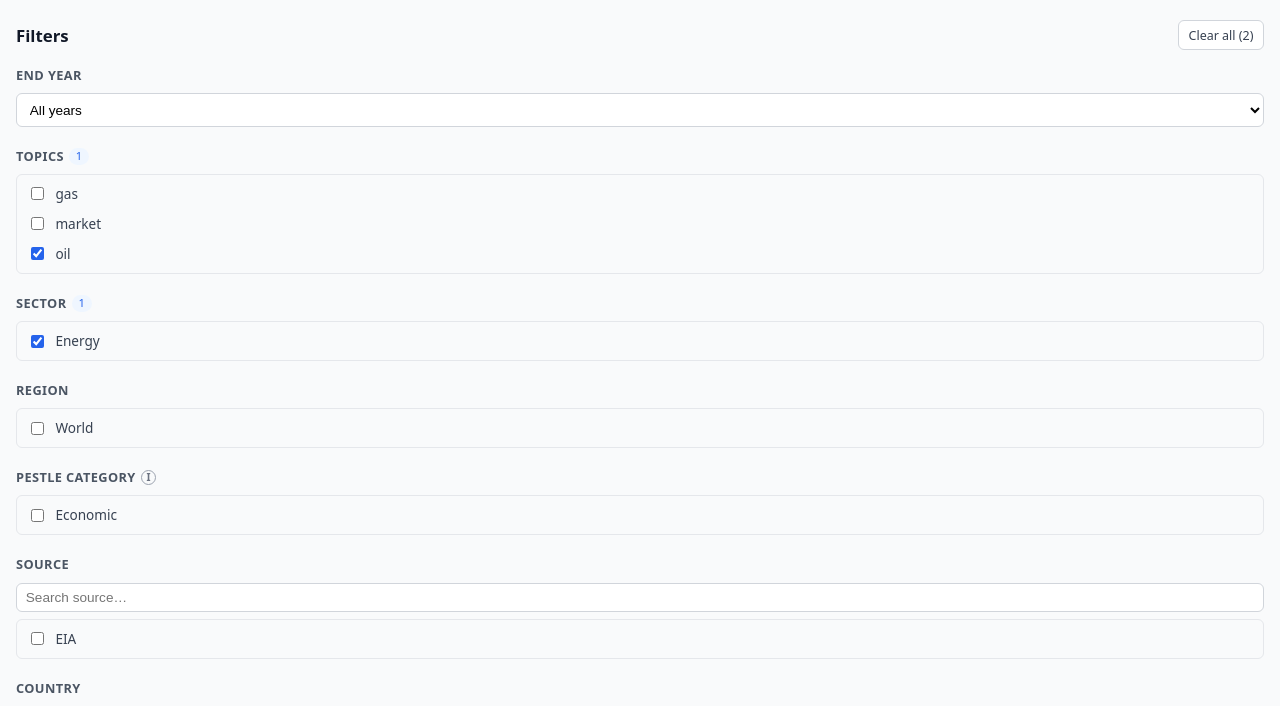
Test: FilterBar › "Clear all" resets every control and clears the URL
Expected: the checkbox labelled "oil" is checked, [31,247,44,260]
Click the button "Clear all (2)" at (1221, 35), box [1178,20,1264,50]
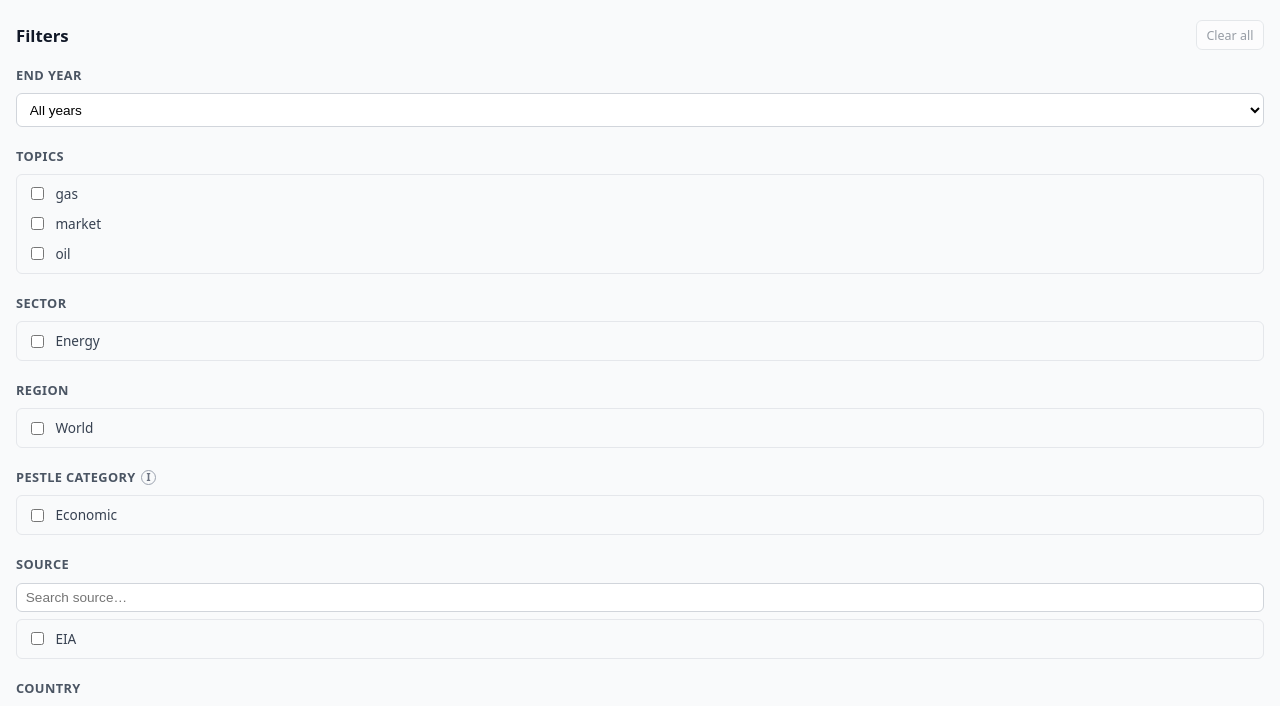
Now the checkbox labelled "oil" is not checked, box [31,247,44,260]
